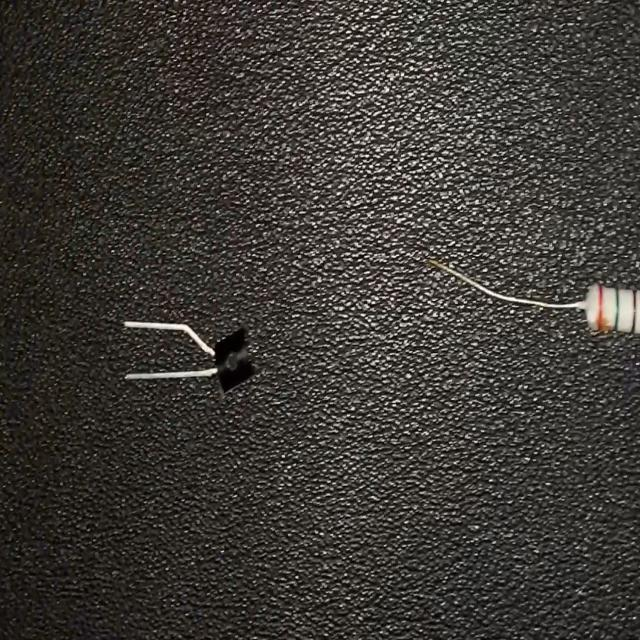burnt: (591, 319, 614, 335)
missing-leg: (122, 316, 258, 399)
resistor: (427, 251, 640, 340)
